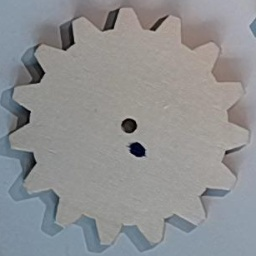Points: (128, 141, 147, 159)
